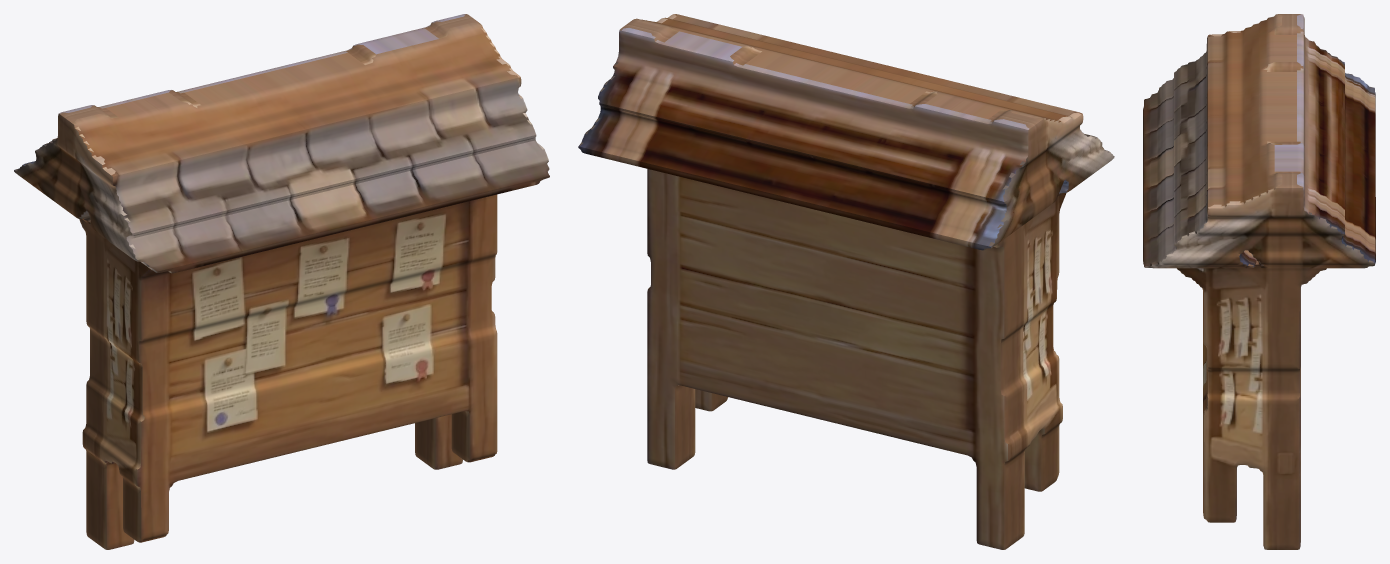
Rendered from town-board.glb.
The picture shows the model from 3 angles, left to right: view 1: azimuth 30°, elevation 25°; view 2: azimuth 150°, elevation 25°; view 3: azimuth 270°, elevation 25°; orthographic projection. The views are drawn at different scales.
Parts seen in each view (by area): view 1: piece; view 2: piece; view 3: piece.
Part boxes in pixels (x1,y1,x2,y2): piece: [14, 14, 549, 549]; piece: [578, 14, 1114, 549]; piece: [1143, 14, 1375, 549].
Size of the model in its own units: 2.83 by 2.8 by 1.57.
Materials: 1 (1 with a texture image).
